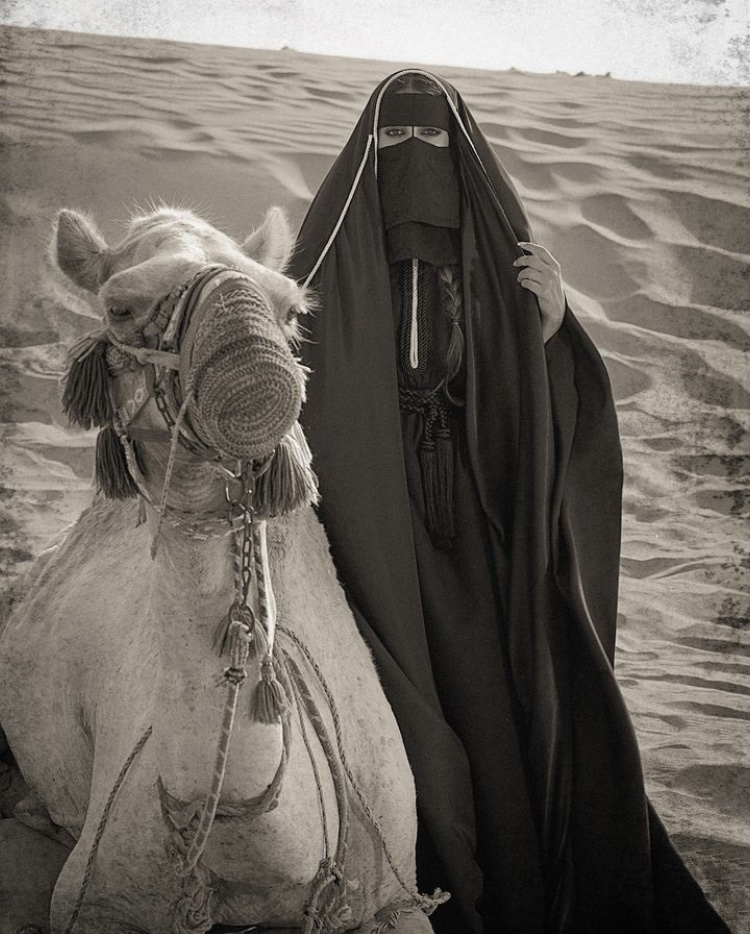Saudi_Founding_Day: (278, 64, 738, 933)
